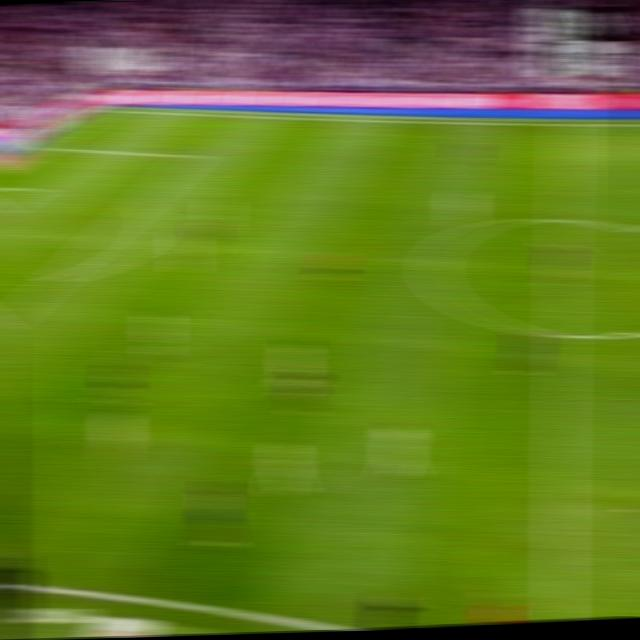bigarea_top_inner: (181, 147, 205, 163)
bigarea_top_outter: (34, 140, 57, 152)
bottom_arc_area_intersection: (44, 269, 70, 287)
corner: (94, 103, 116, 113)
halfcircle_bottom: (547, 319, 575, 350)
halfcircle_top: (550, 206, 576, 229)
midline_top_intersection: (553, 117, 577, 132)
smallarea_top_inner: (22, 184, 44, 194)
top_arc_area_intersection: (129, 195, 152, 210)
